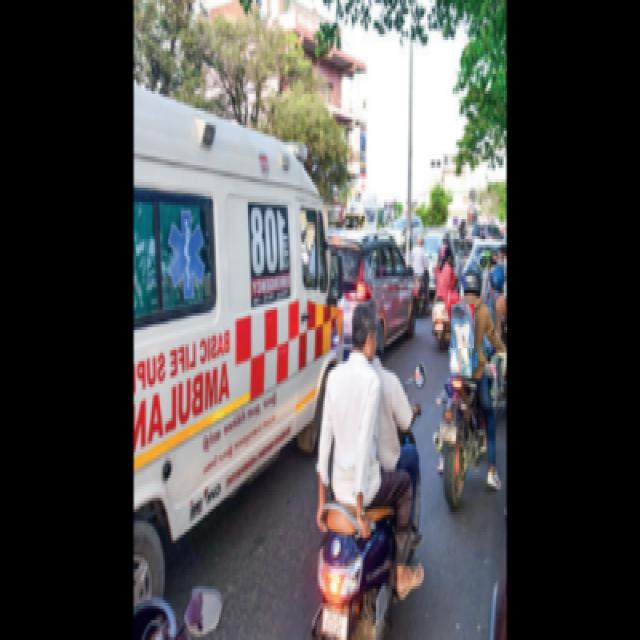car: (330, 231, 414, 352)
emergency: (135, 88, 340, 603)
motorcycle: (312, 302, 424, 639), (434, 262, 505, 507), (434, 351, 486, 509), (431, 238, 459, 348), (451, 305, 474, 348), (492, 344, 502, 394), (415, 364, 425, 386)
